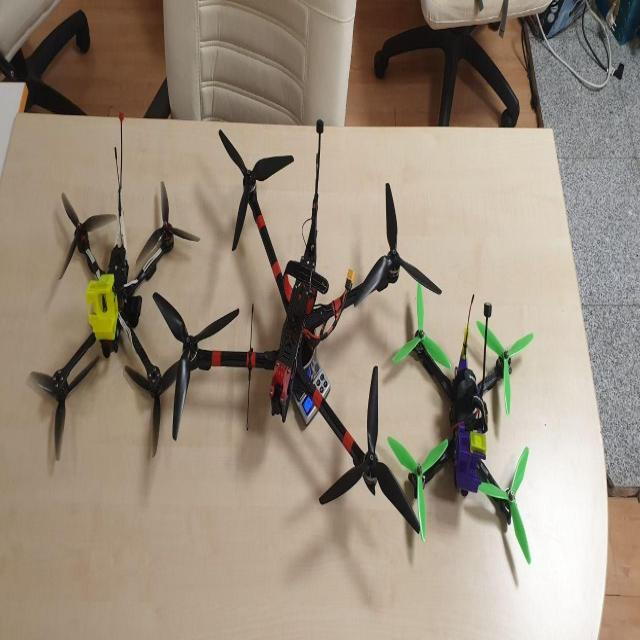drone: (162, 125, 416, 526), (377, 255, 568, 590), (21, 181, 196, 442)
